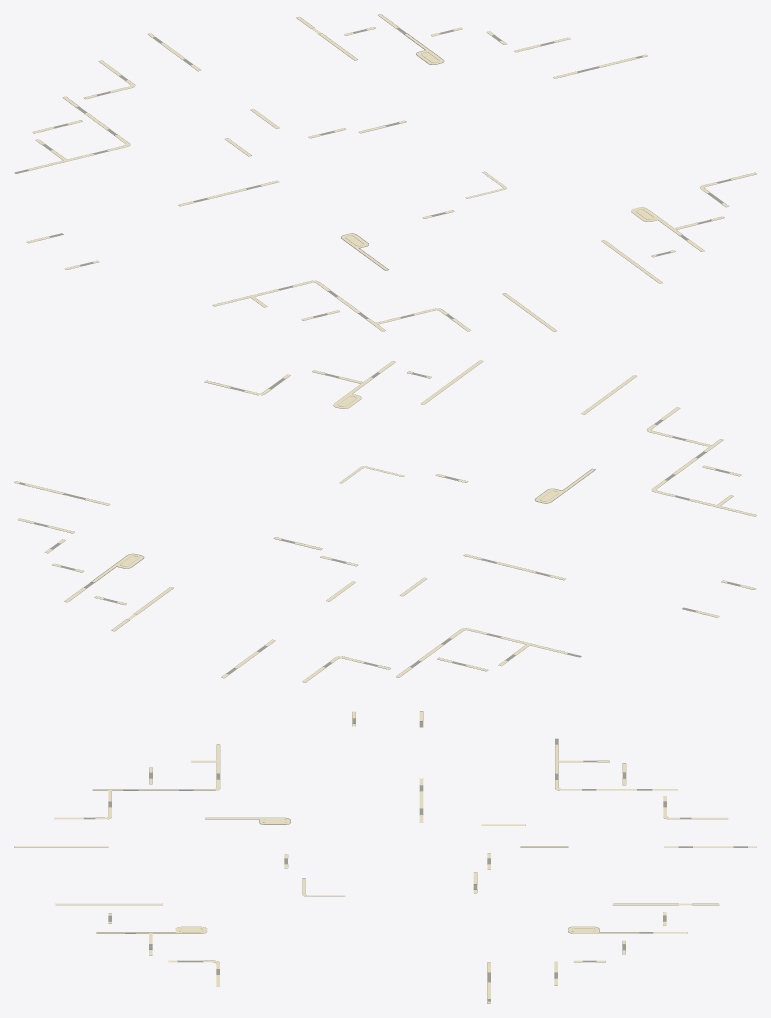
The model's file is Sidewalks_sand_D3.fbx.
3 views of the same model, one above another, from view 1: azimuth 30°, elevation 25°; view 2: azimuth 150°, elevation 25°; view 3: azimuth 270°, elevation 25° (orthographic). The views are drawn at different scales.
Size of the model in its own units: 219066 by 132 by 235069.
